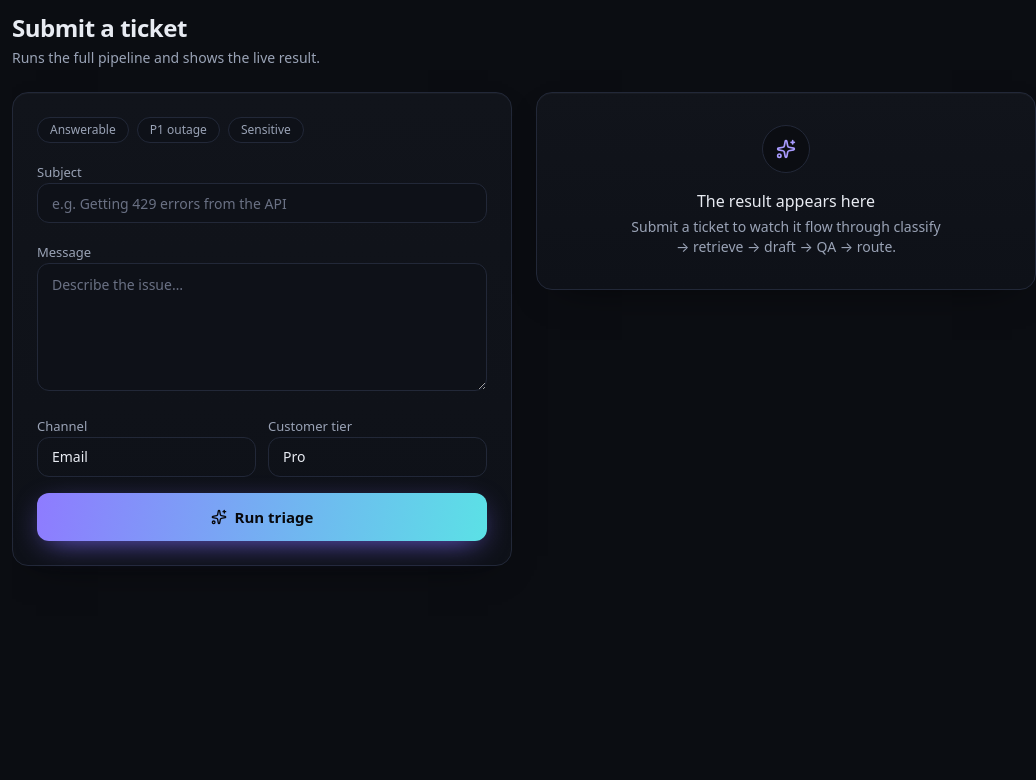
Test case: SubmitPage → ResultState › renders the grounded reply for an auto-resolved ticket
Click the button "Answerable".
click(83, 130)  # box top-left (37, 117), bottom-right (129, 143)
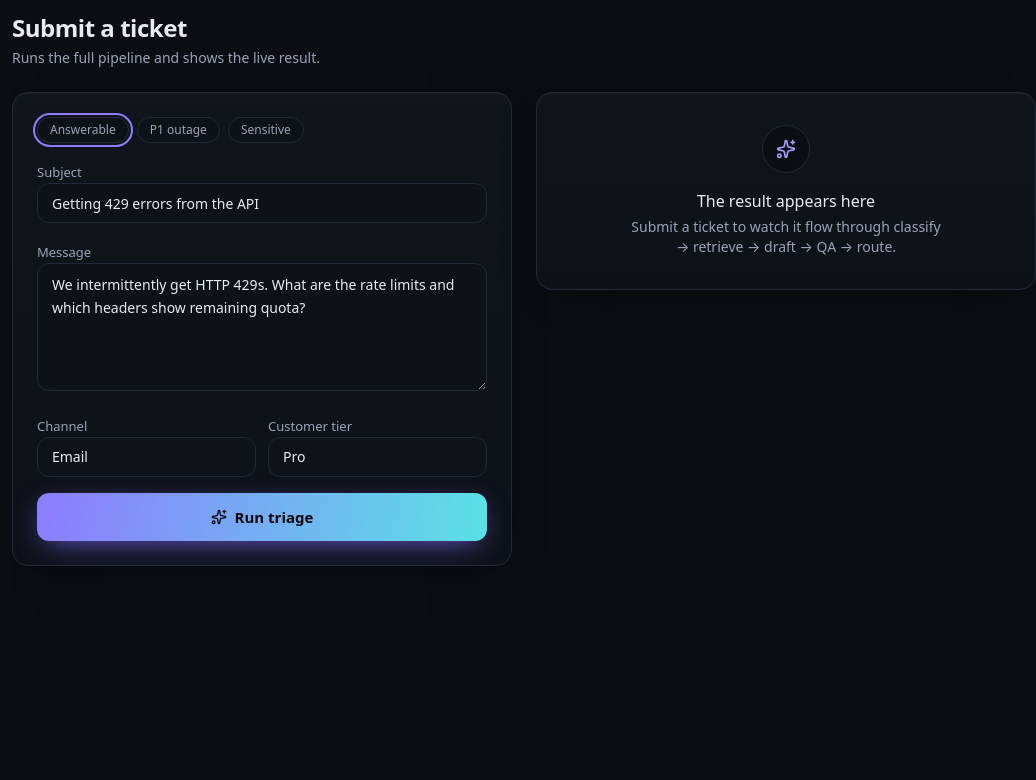
Click the button "Run triage".
click(262, 517)  # box top-left (37, 493), bottom-right (487, 541)
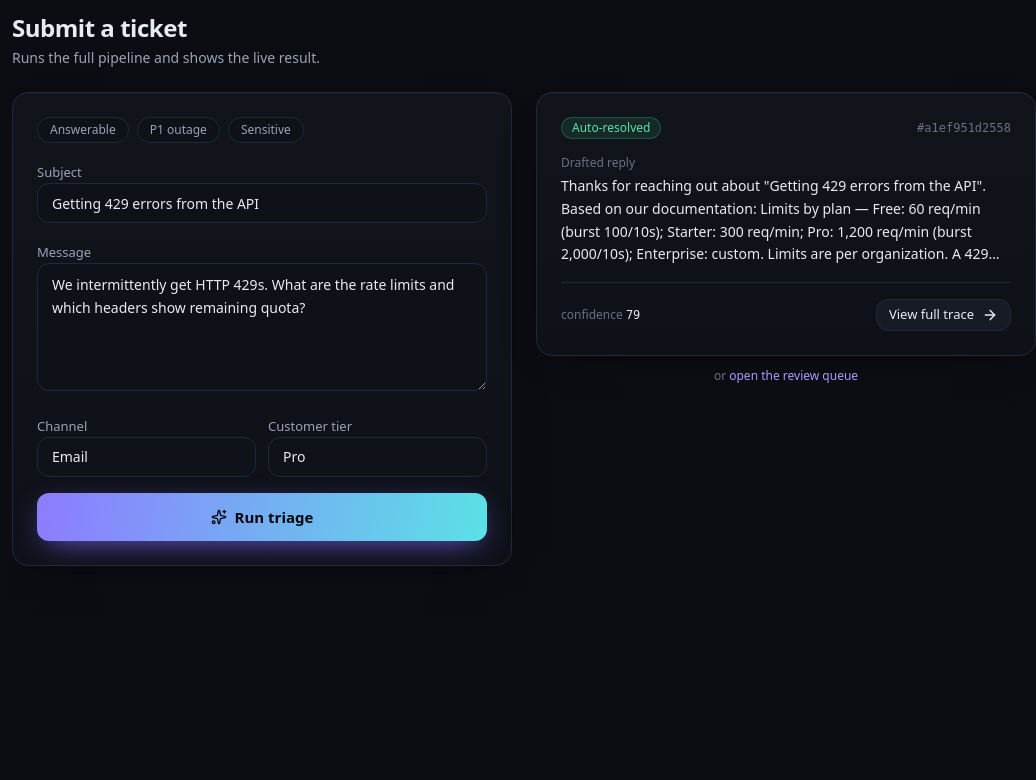
Result: the text "Auto-resolved" is shown at top-left (561, 117), bottom-right (661, 139)
Result: the text "Based on our documentation" is shown at top-left (561, 176), bottom-right (1003, 309)
Result: the button "View full trace" is shown at top-left (876, 299), bottom-right (1011, 331)
